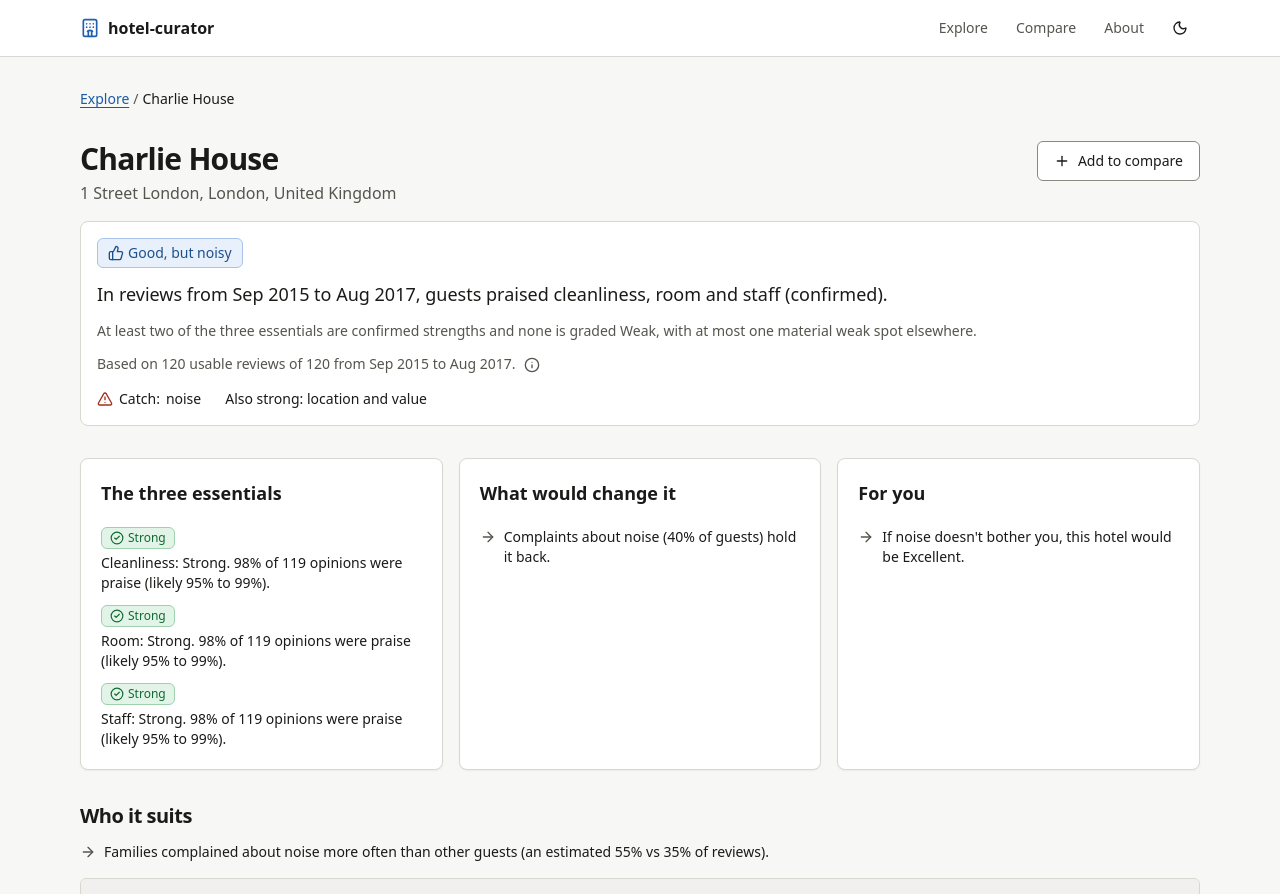
Hotel page › adds the hotel to the compare list
This screenshot has width=1280, height=894.
Expected: the heading "Charlie House" is shown, [80,138,278,179]
Click the button "Add to compare" at (1118, 161), box [1037,141,1200,181]
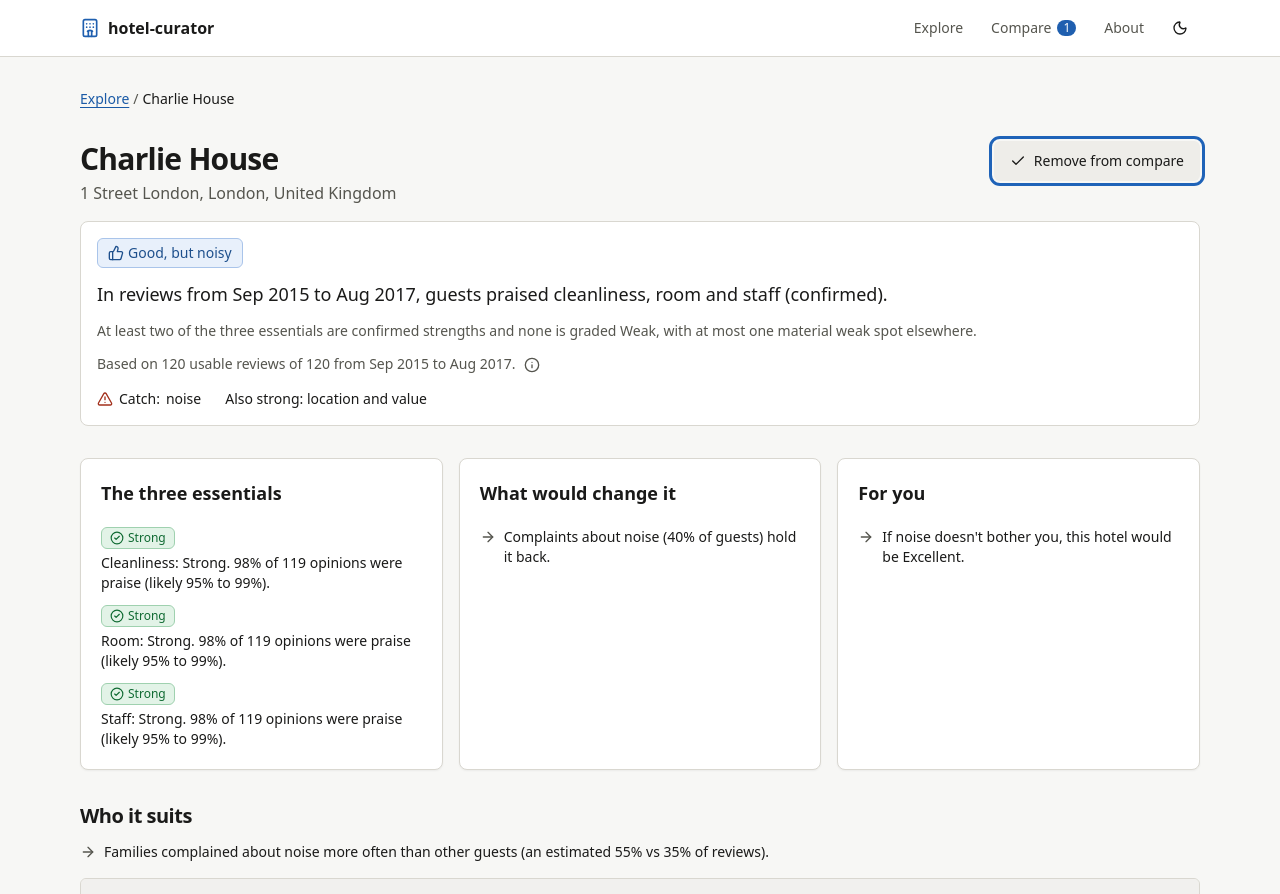
Result: the button "Remove from compare" is shown at [994,141,1200,181]
